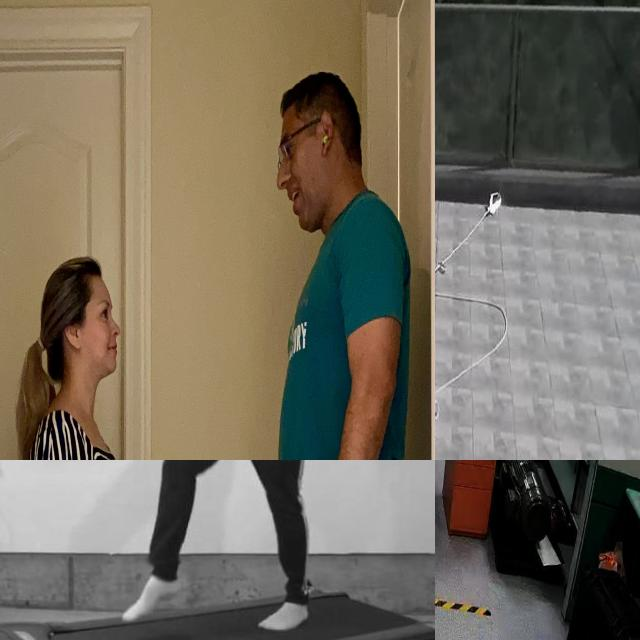Harness: (435, 289, 509, 446)
No_Ear-Protection: (64, 316, 82, 353)
No_Glasses: (92, 293, 120, 330)
person: (120, 460, 339, 630)
